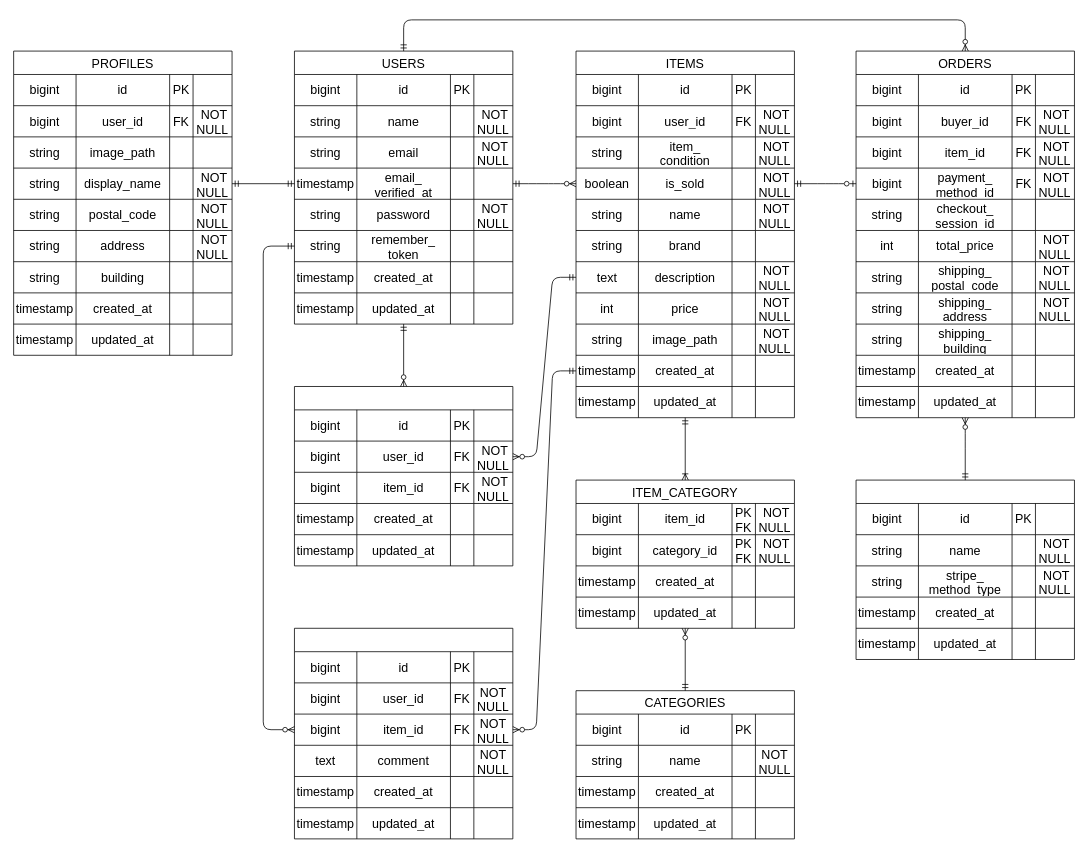
The diagram is 1088 pixels wide and 853 high, and some of its shapes have lost their labels. Each missing label, with the box of its shape:
COMMENTS: (294, 628, 513, 839)
FAVORITES: (294, 386, 513, 566)
PAYMENTS: (855, 479, 1074, 659)
